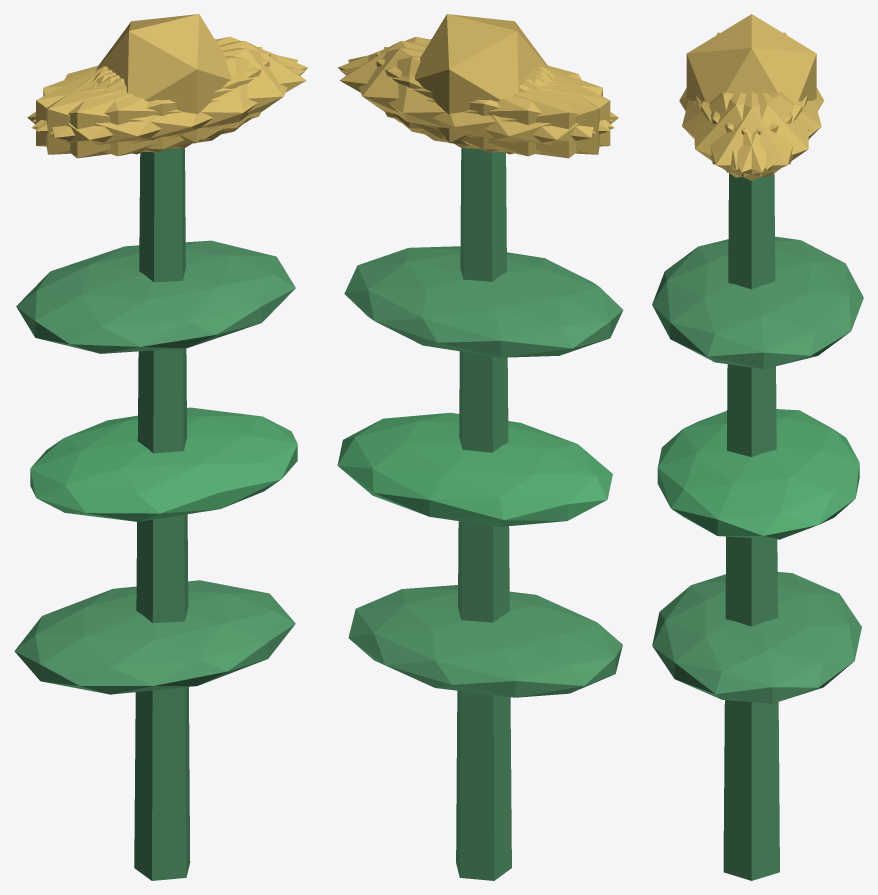
Rendered from acorus-gramineus.glb.
The picture shows the model from 3 angles, left to right: view 1: azimuth 30°, elevation 25°; view 2: azimuth 150°, elevation 25°; view 3: azimuth 270°, elevation 25°; orthographic projection.
Parts seen in each view (by area): view 1: stem, leaf2, leaf0, leaf1, center, petal1, petal6, petal2, petal5, petal7, petal0, petal4 (+2 smaller); view 2: stem, leaf1, leaf2, leaf0, center, petal8, petal3, petal7, petal4, petal2, petal0, petal5 (+2 smaller); view 3: stem, leaf2, leaf1, leaf0, center, petal0, petal5, petal4, petal1, petal8.
Part boxes in pixels (x1,y1,x2,y2): stem: (134,148,190,880); leaf2: (16,240,295,353); leaf0: (14,580,295,694); leaf1: (30,407,297,521); center: (96,14,231,145); petal1: (31,55,305,156); petal6: (27,68,225,158); petal2: (46,47,262,154); petal5: (50,48,297,149); petal7: (36,52,270,152); petal0: (96,41,306,139); petal4: (33,36,308,131); stem: (456,148,511,880); leaf1: (337,412,612,526); leaf2: (344,246,623,357); leaf0: (348,585,622,697); center: (414,14,549,145); petal8: (340,55,614,156); petal3: (420,68,618,158); petal7: (384,47,599,154); petal4: (348,48,595,149); petal2: (376,52,610,152); petal0: (340,41,549,139); petal5: (338,36,613,131); stem: (723,173,779,880); leaf2: (652,236,863,369); leaf1: (657,409,859,539); leaf0: (652,572,861,703); center: (686,14,816,102); petal0: (696,92,807,180); petal5: (694,92,802,177); petal4: (701,92,809,177); petal1: (682,92,792,169); petal8: (710,92,821,169).
Bounding box in the file's own units: 0.1452 × 0.4353 × 0.0998.
